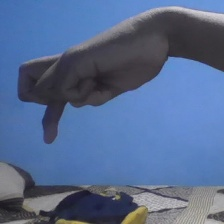P: (13, 3, 174, 148)
